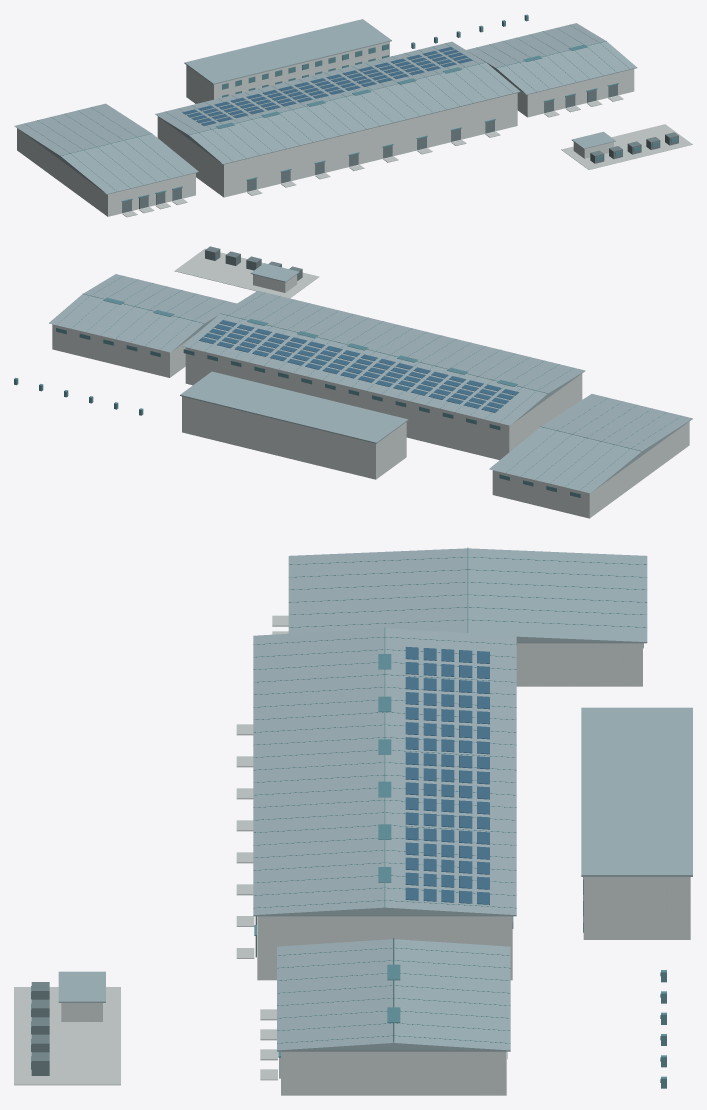
Rendered from buildings.glb.
3 views of the same model, one above another, from view 1: azimuth 30°, elevation 25°; view 2: azimuth 150°, elevation 25°; view 3: azimuth 270°, elevation 25° (orthographic). The views are drawn at different scales.
Parts seen in each view (by area): view 1: vehicle_assembly_roof, vehicle_assembly_wall, inbound_logistics_roof, inspection_and_dispatch_roof, north_office_roof, inbound_logistics_wall, north_office_wall, inspection_and_dispatch_wall, power_station_slab, power_station_control_roof, power_station_control; view 2: vehicle_assembly_roof, inbound_logistics_roof, vehicle_assembly_wall, north_office_wall, inspection_and_dispatch_roof, north_office_roof, inbound_logistics_wall, inspection_and_dispatch_wall, power_station_slab, power_station_control_roof, power_station_control; view 3: vehicle_assembly_roof, inbound_logistics_roof, inspection_and_dispatch_roof, north_office_roof, inspection_and_dispatch_wall, vehicle_assembly_wall, power_station_slab, north_office_wall, inbound_logistics_wall, power_station_control_roof.
Part boxes in pixels (left/top/right/bottom): vehicle_assembly_roof: left=155, top=41, right=520, bottom=164; vehicle_assembly_wall: left=157, top=93, right=517, bottom=197; inbound_logistics_roof: left=14, top=103, right=198, bottom=194; inspection_and_dispatch_roof: left=466, top=23, right=637, bottom=94; north_office_roof: left=184, top=19, right=391, bottom=84; inbound_logistics_wall: left=17, top=128, right=195, bottom=216; north_office_wall: left=186, top=41, right=389, bottom=103; inspection_and_dispatch_wall: left=509, top=69, right=634, bottom=117; power_station_slab: left=561, top=124, right=692, bottom=169; power_station_control_roof: left=571, top=131, right=615, bottom=148; power_station_control: left=573, top=142, right=613, bottom=158; vehicle_assembly_roof: left=182, top=290, right=585, bottom=425; inbound_logistics_roof: left=489, top=394, right=692, bottom=493; vehicle_assembly_wall: left=185, top=347, right=582, bottom=460; north_office_wall: left=182, top=396, right=406, bottom=479; inspection_and_dispatch_roof: left=49, top=274, right=236, bottom=352; north_office_roof: left=180, top=371, right=408, bottom=443; inbound_logistics_wall: left=492, top=421, right=689, bottom=518; inspection_and_dispatch_wall: left=52, top=324, right=195, bottom=377; power_station_slab: left=174, top=248, right=319, bottom=298; power_station_control_roof: left=250, top=263, right=299, bottom=282; power_station_control: left=253, top=274, right=297, bottom=292; vehicle_assembly_roof: left=253, top=628, right=516, bottom=916; inbound_logistics_roof: left=288, top=548, right=647, bottom=643; inspection_and_dispatch_roof: left=277, top=939, right=510, bottom=1051; north_office_roof: left=581, top=707, right=692, bottom=876; inspection_and_dispatch_wall: left=281, top=1051, right=506, bottom=1095; vehicle_assembly_wall: left=257, top=916, right=512, bottom=980; power_station_slab: left=14, top=987, right=120, bottom=1085; north_office_wall: left=583, top=877, right=690, bottom=939; inbound_logistics_wall: left=516, top=643, right=642, bottom=686; power_station_control_roof: left=58, top=971, right=105, bottom=1002.
Bounding box in the file's own units: 197 × 14.04 × 114.
